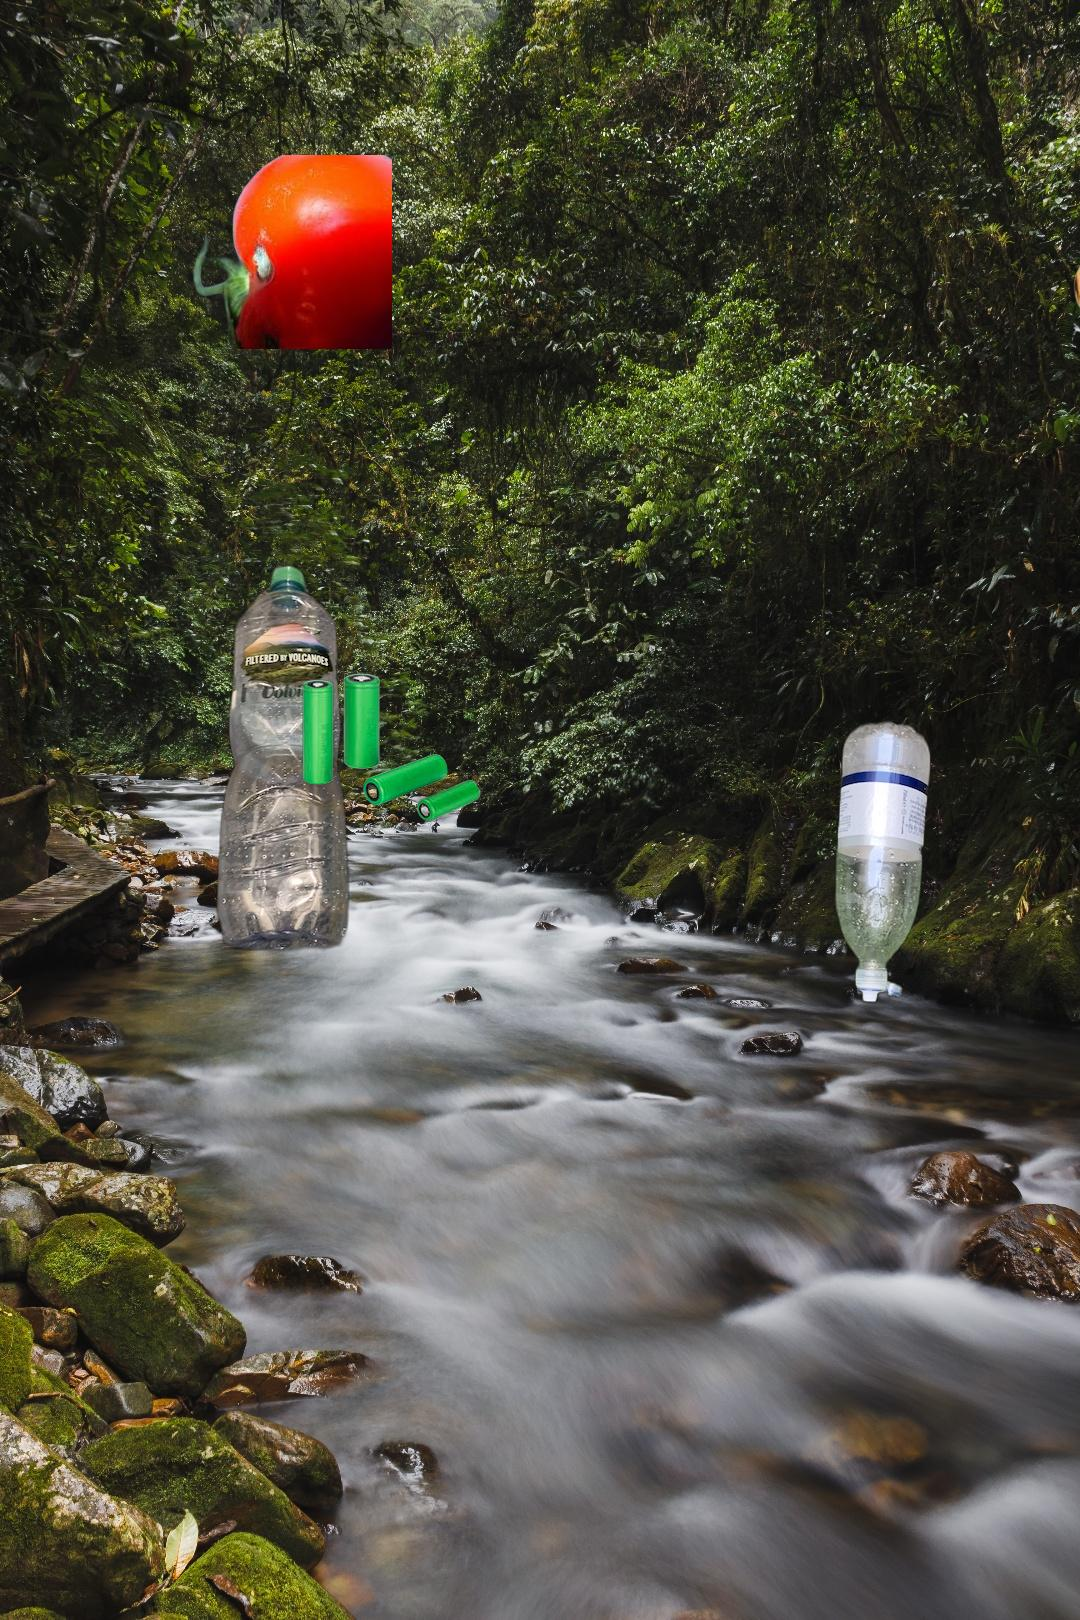battery: (300, 670, 483, 824)
biological: (187, 155, 392, 350), (1057, 168, 1080, 344)
plastic-bottles: (644, 715, 937, 1354), (213, 559, 353, 957)
